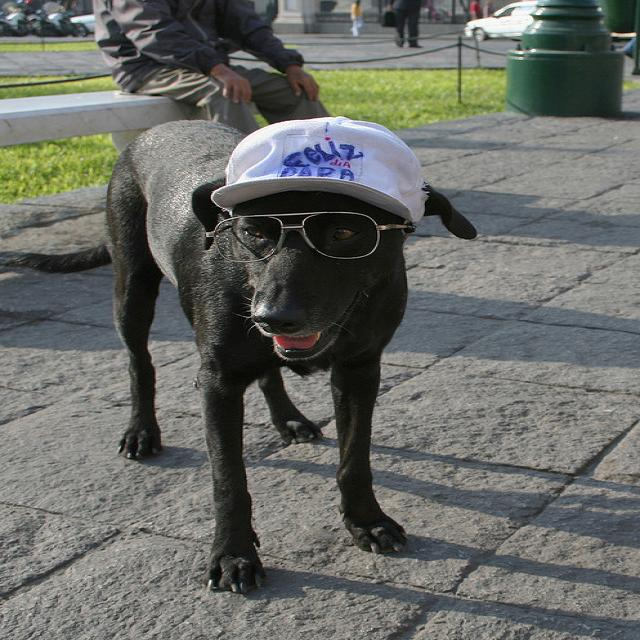motor: (26, 11, 89, 38), (5, 14, 25, 37)
